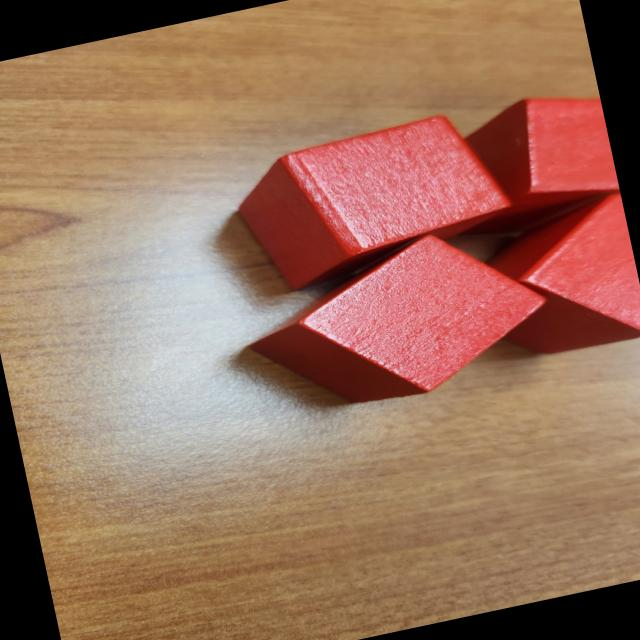red: (233, 210, 566, 428), (225, 105, 520, 299), (428, 82, 624, 246), (477, 192, 640, 365)
